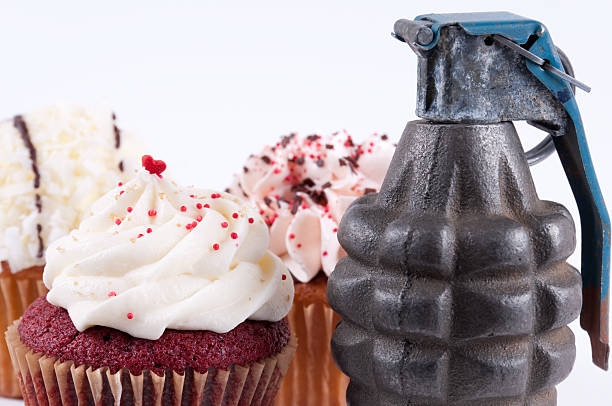e1: (335, 13, 612, 405)
